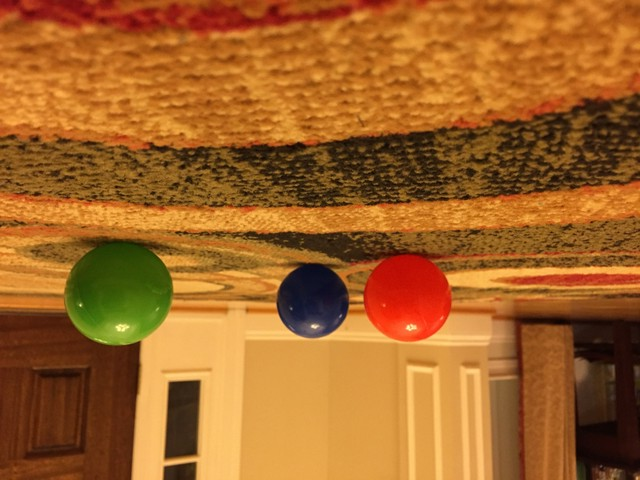Ball: (367, 254, 451, 346)
